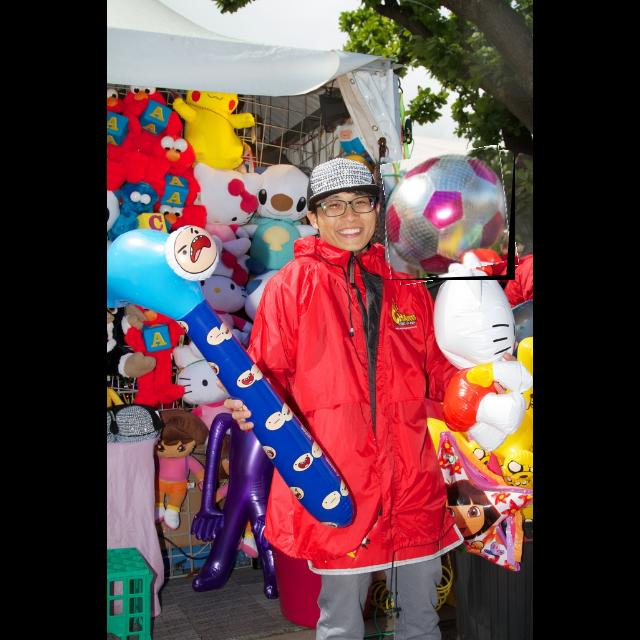Football: (385, 150, 515, 280)
